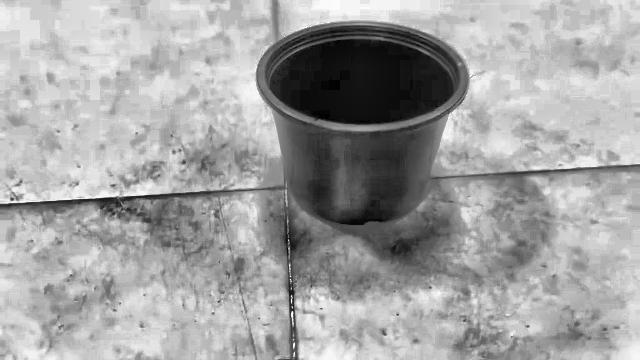pot: (256, 21, 469, 224)
